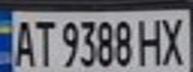3: (75, 17, 96, 69)
8: (112, 16, 139, 68), (97, 17, 118, 68)
9: (57, 16, 81, 69)
A: (9, 16, 36, 68)
H: (133, 15, 166, 66)
T: (30, 16, 57, 69)
X: (157, 12, 190, 66)
